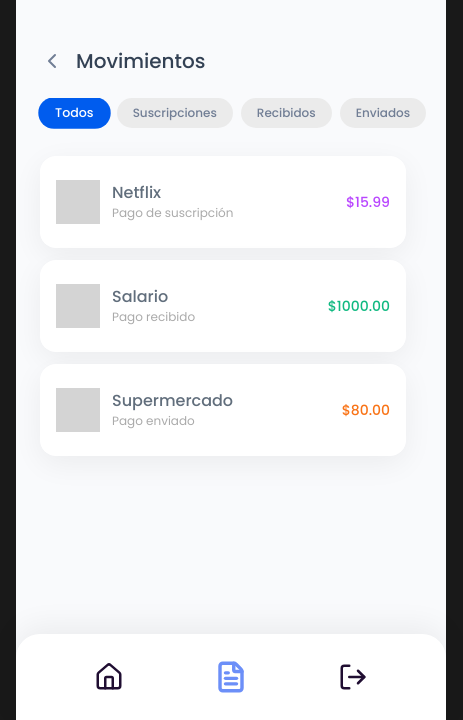
MovementsPage › filters by SUS
Click the button "Suscripciones" at (175, 113), box [117,98,233,128]
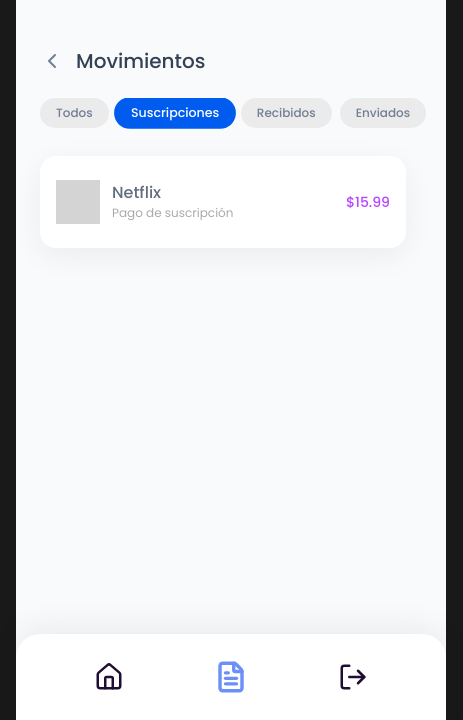
Expected: the text "Netflix" is shown, [112,181,161,204]
Now the text "Salario" is gone
Now the text "Supermercado" is gone
